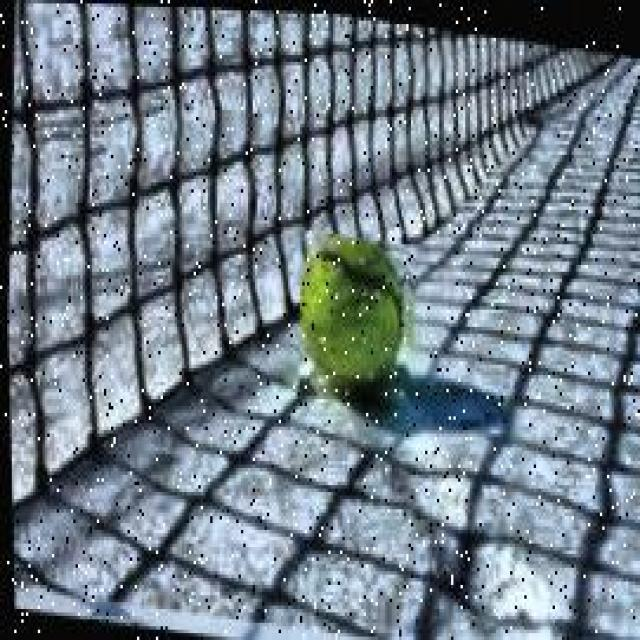tennis-ball: (294, 232, 417, 411)
